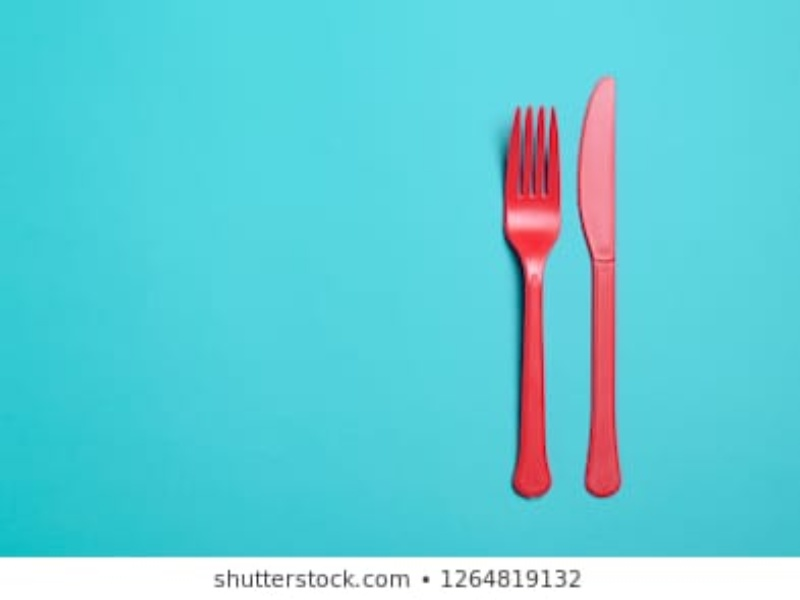plastic-silverware: (571, 72, 635, 497), (503, 102, 566, 501)
